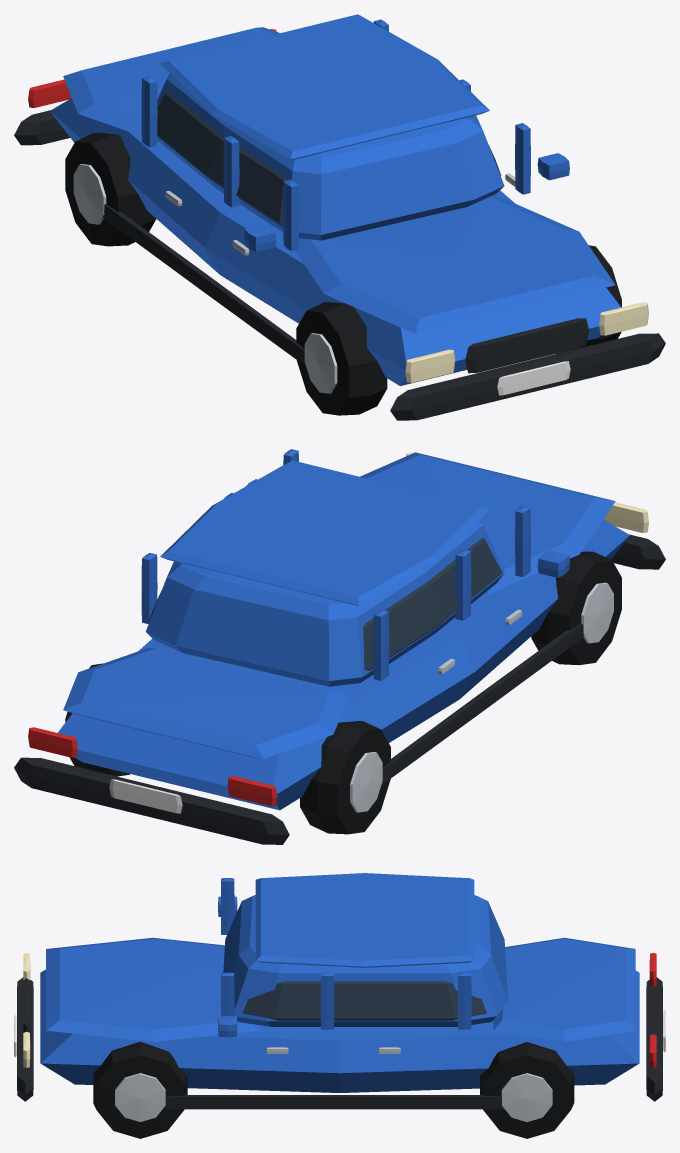
The model's file is s-car-2.glb.
3 views of the same model, one above another, from view 1: azimuth 30°, elevation 25°; view 2: azimuth 150°, elevation 25°; view 3: azimuth 270°, elevation 25° (orthographic). The views are drawn at different scales.
Visible parts, largest first — view 1: p; view 2: p; view 3: p.
Boxes of the visible parts, box(x1,y1,x2,y2) form: p: box(14, 14, 665, 420); p: box(14, 449, 665, 844); p: box(14, 873, 665, 1138).
Size of the model in its own units: 2.16 by 1.32 by 4.6.
